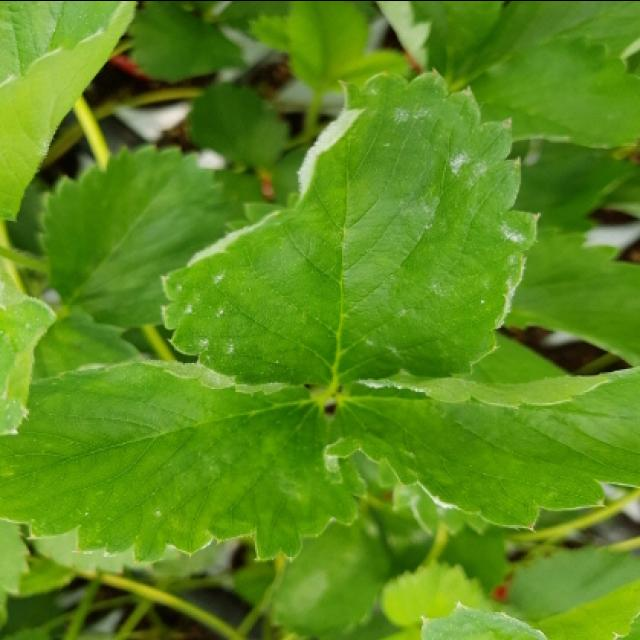Powdery Mildew Leaf: (161, 67, 540, 388), (0, 357, 368, 564), (322, 365, 638, 531), (0, 2, 137, 219)
